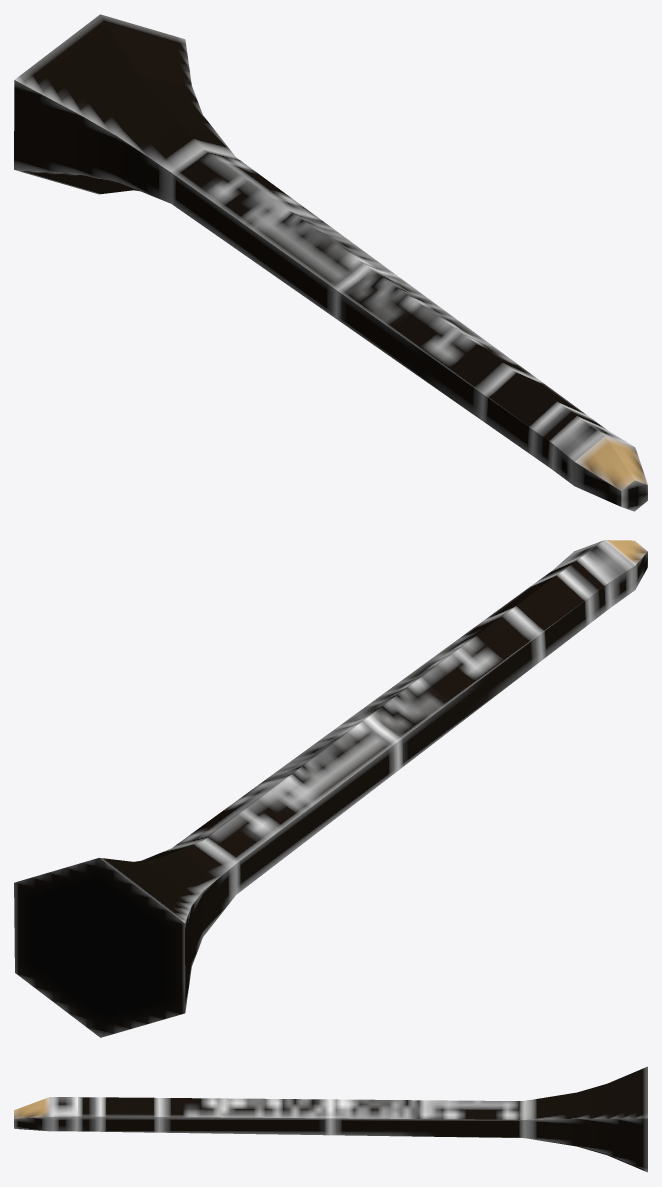
The model's file is flauta-3.obj.
3 renders of one model, top to bottom at view 1: azimuth 30°, elevation 25°; view 2: azimuth 150°, elevation 25°; view 3: azimuth 270°, elevation 25°, orthographic. The views are drawn at different scales.
Visible parts, largest first — view 1: f3_Flauta_3:Flauta_2:Flauta_1:pCylinder3; view 2: f3_Flauta_3:Flauta_2:Flauta_1:pCylinder3; view 3: f3_Flauta_3:Flauta_2:Flauta_1:pCylinder3.
Part boxes in pixels (x1,y1,x2,y2): f3_Flauta_3:Flauta_2:Flauta_1:pCylinder3: (14, 14, 647, 511); f3_Flauta_3:Flauta_2:Flauta_1:pCylinder3: (14, 540, 647, 1037); f3_Flauta_3:Flauta_2:Flauta_1:pCylinder3: (14, 1066, 647, 1172).
Bounding box in the file's own units: 1.07 × 1.07 × 5.79.
1 material, 1 textured.
